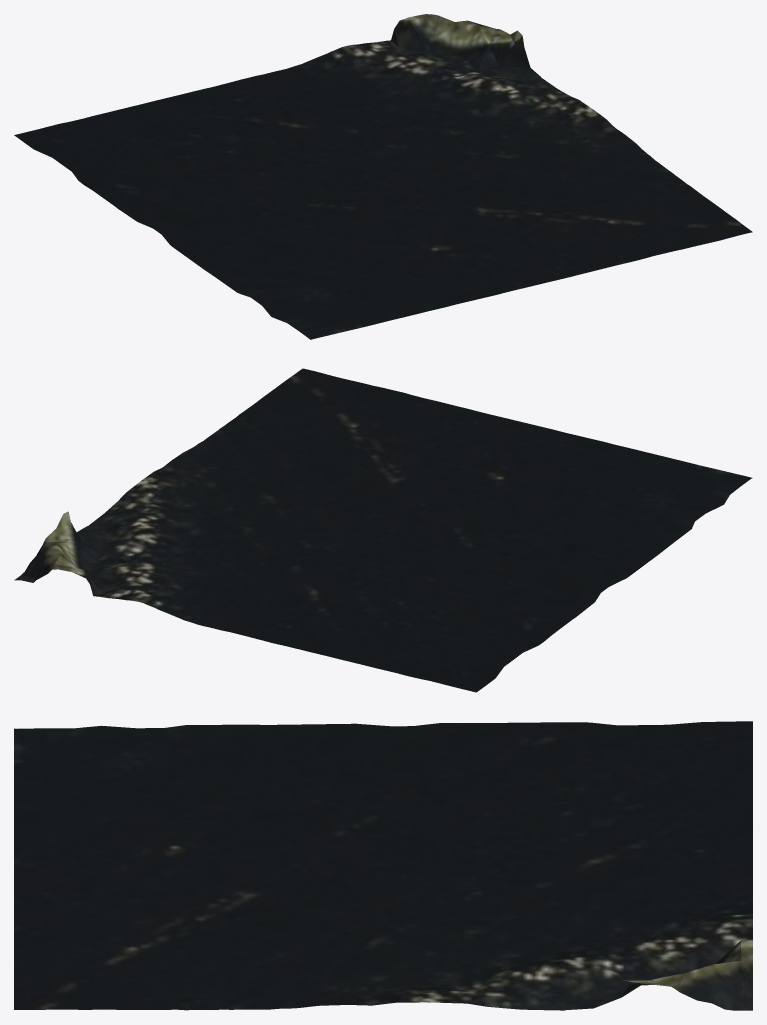
The picture shows the model from 3 angles, top to bottom: view 1: azimuth 30°, elevation 25°; view 2: azimuth 150°, elevation 25°; view 3: azimuth 270°, elevation 25°; orthographic projection. The views are drawn at different scales.
Size of the model in its own units: 96.59 by 6.17 by 104.
2 materials, 2 textured.
